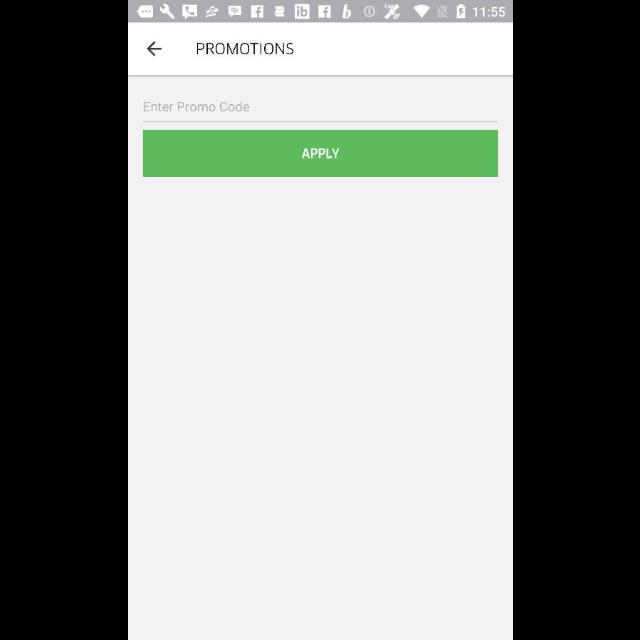icon: (146, 42, 162, 56)
input: (141, 101, 497, 123)
text: (196, 43, 294, 55), (143, 102, 249, 112)
textbutton: (142, 130, 498, 178)
toolbar: (128, 24, 512, 76)
uppertaskbar: (128, 1, 512, 23)
